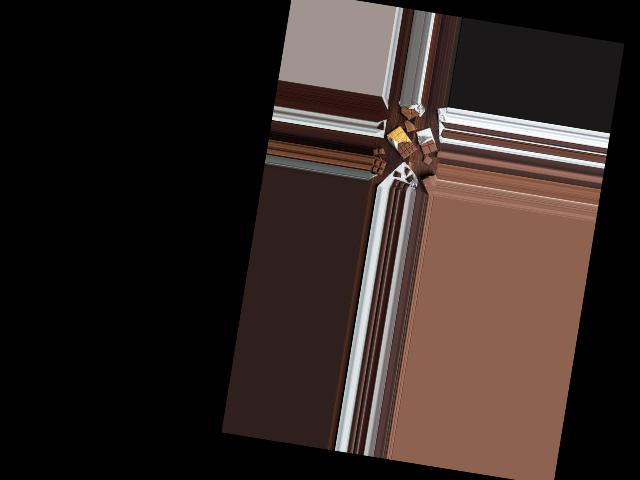chocolate: (412, 127, 442, 156)
